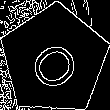O_NE: (22, 28, 86, 92)
